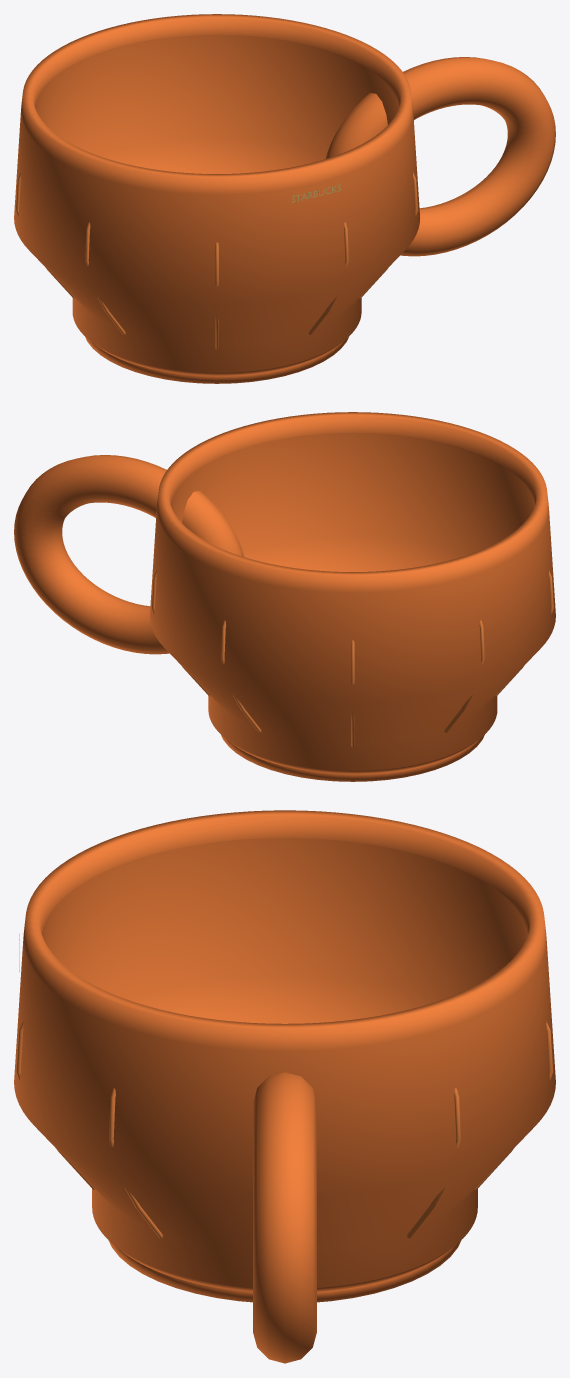
Rendered from mug-pumpkin.glb.
The picture shows the model from 3 angles, top to bottom: view 1: azimuth 30°, elevation 25°; view 2: azimuth 150°, elevation 25°; view 3: azimuth 270°, elevation 25°; orthographic projection. The views are drawn at different scales.
Visible parts, largest first — view 1: CI_054_mug_pumpkin_ceramic_body, CI_054_mug_pumpkin_inner_glaze, CI_054_mug_pumpkin_handle, CI_054_mug_pumpkin_ceramic_foot; view 2: CI_054_mug_pumpkin_ceramic_body, CI_054_mug_pumpkin_inner_glaze, CI_054_mug_pumpkin_handle, CI_054_mug_pumpkin_ceramic_foot; view 3: CI_054_mug_pumpkin_ceramic_body, CI_054_mug_pumpkin_inner_glaze, CI_054_mug_pumpkin_handle, CI_054_mug_pumpkin_ceramic_foot.
Part boxes in pixels (bbox=[...]): CI_054_mug_pumpkin_ceramic_body: bbox=[14, 14, 419, 375]; CI_054_mug_pumpkin_inner_glaze: bbox=[35, 34, 399, 173]; CI_054_mug_pumpkin_handle: bbox=[325, 57, 555, 256]; CI_054_mug_pumpkin_ceramic_foot: bbox=[85, 336, 348, 383]; CI_054_mug_pumpkin_ceramic_body: bbox=[150, 412, 555, 773]; CI_054_mug_pumpkin_inner_glaze: bbox=[170, 432, 534, 571]; CI_054_mug_pumpkin_handle: bbox=[14, 455, 244, 654]; CI_054_mug_pumpkin_ceramic_foot: bbox=[221, 734, 484, 781]; CI_054_mug_pumpkin_ceramic_body: bbox=[14, 810, 555, 1291]; CI_054_mug_pumpkin_inner_glaze: bbox=[42, 838, 527, 1023]; CI_054_mug_pumpkin_handle: bbox=[253, 1072, 316, 1363]; CI_054_mug_pumpkin_ceramic_foot: bbox=[108, 1240, 461, 1302].
Size of the model in its own units: 0.1716 by 0.074 by 0.118.
